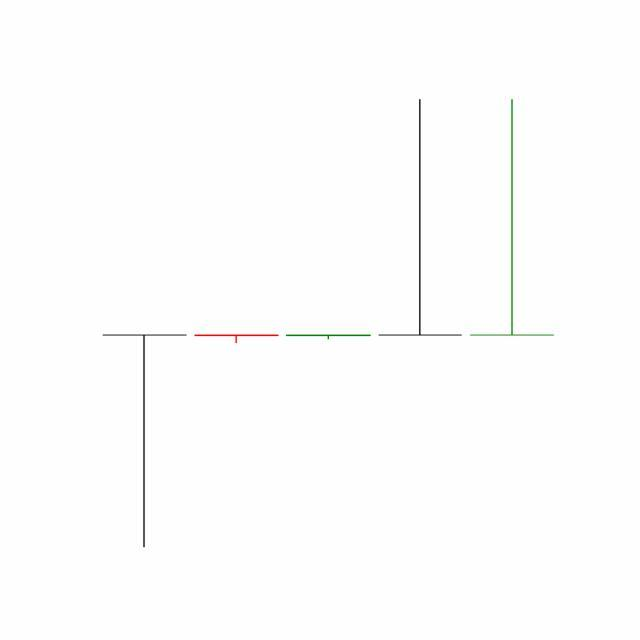Gravestone Doji: (466, 97, 559, 339)
